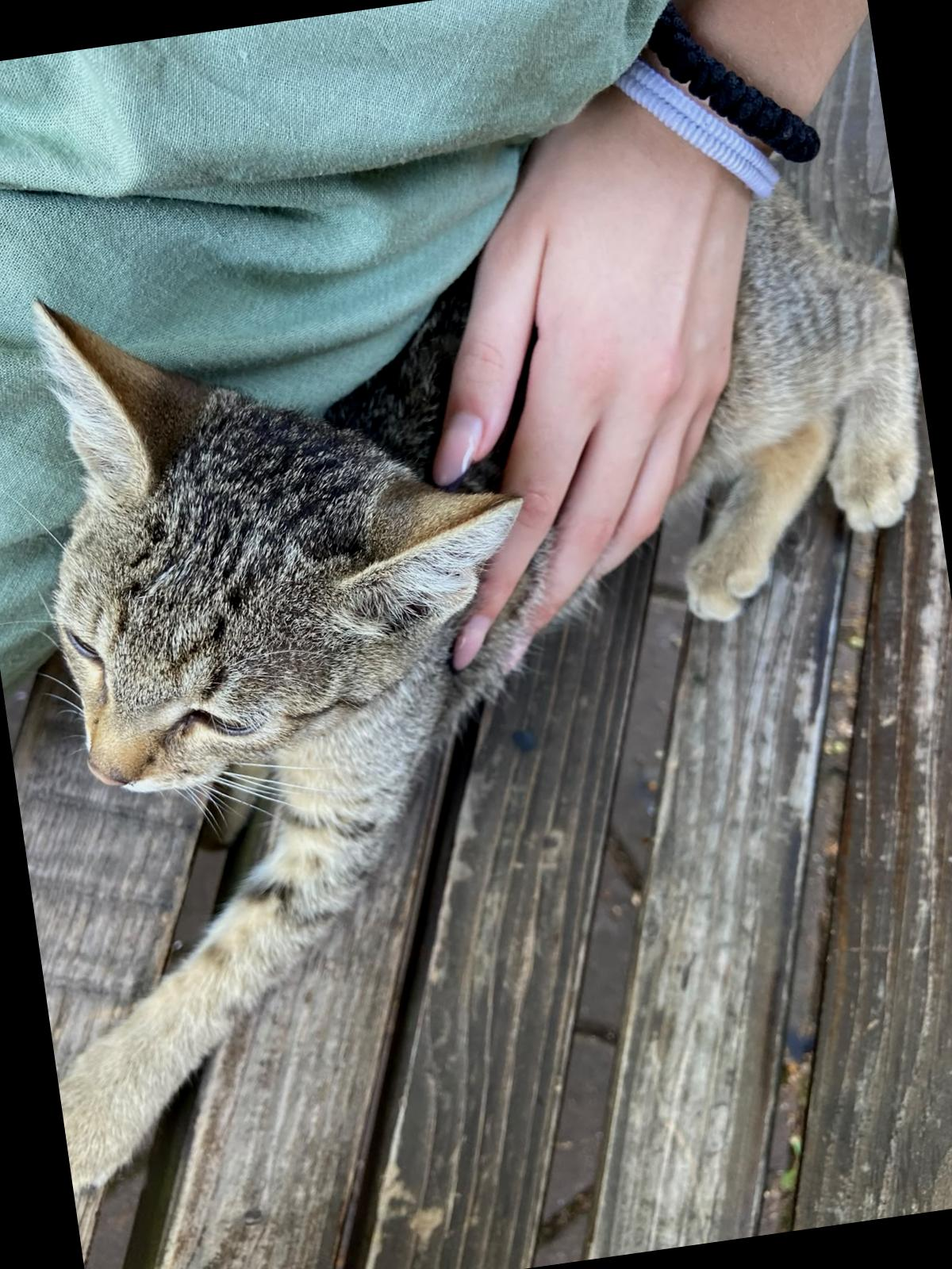macka: (0, 157, 952, 1187)
